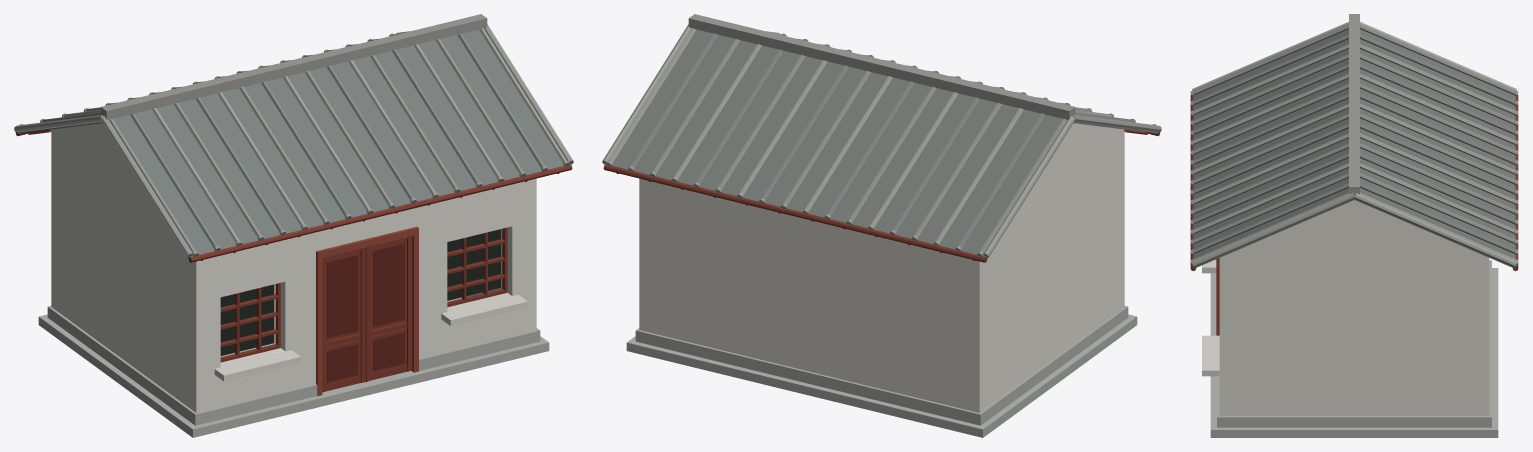
The model's file is chongming-minghuan-shrine-lod.glb.
The picture shows the model from 3 angles, left to right: view 1: azimuth 30°, elevation 25°; view 2: azimuth 150°, elevation 25°; view 3: azimuth 270°, elevation 25°; orthographic projection. The views are drawn at different scales.
Size of the model in its own units: 9.55 by 6.5 by 7.54.
